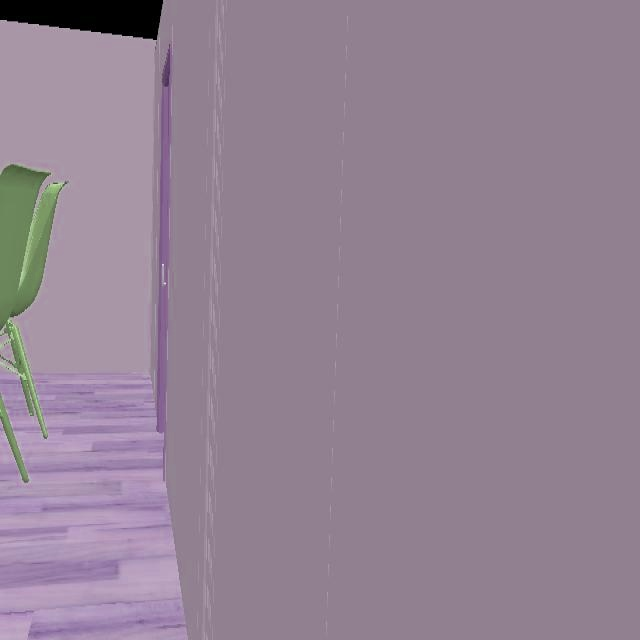chair: (0, 165, 65, 438), (0, 395, 29, 481)
